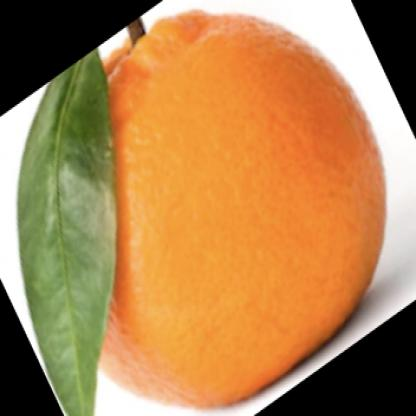orange: (26, 17, 393, 411)
